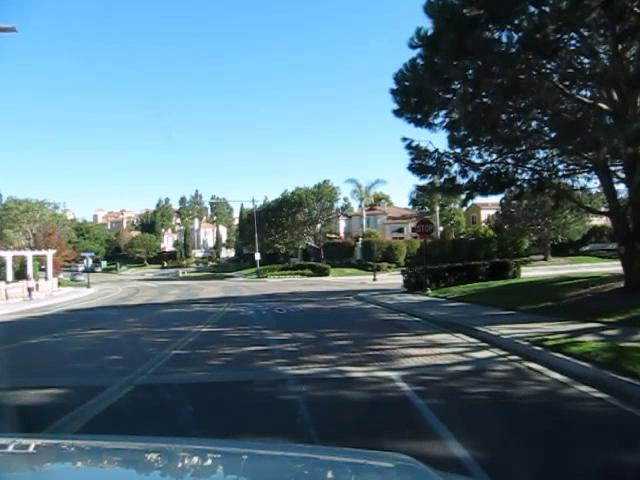stop: (414, 217, 435, 239)
